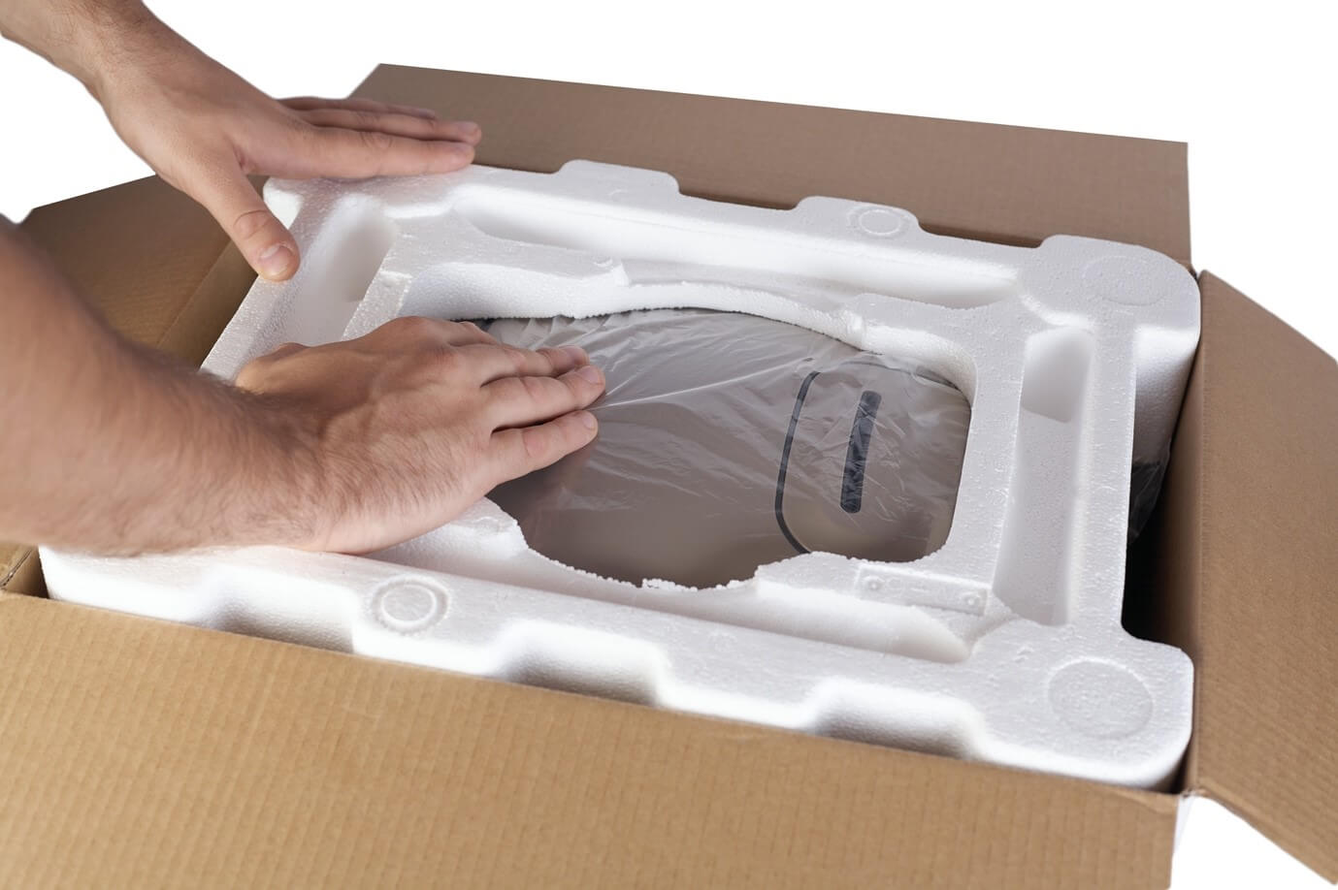泡沫箱: (42, 162, 1200, 786)
